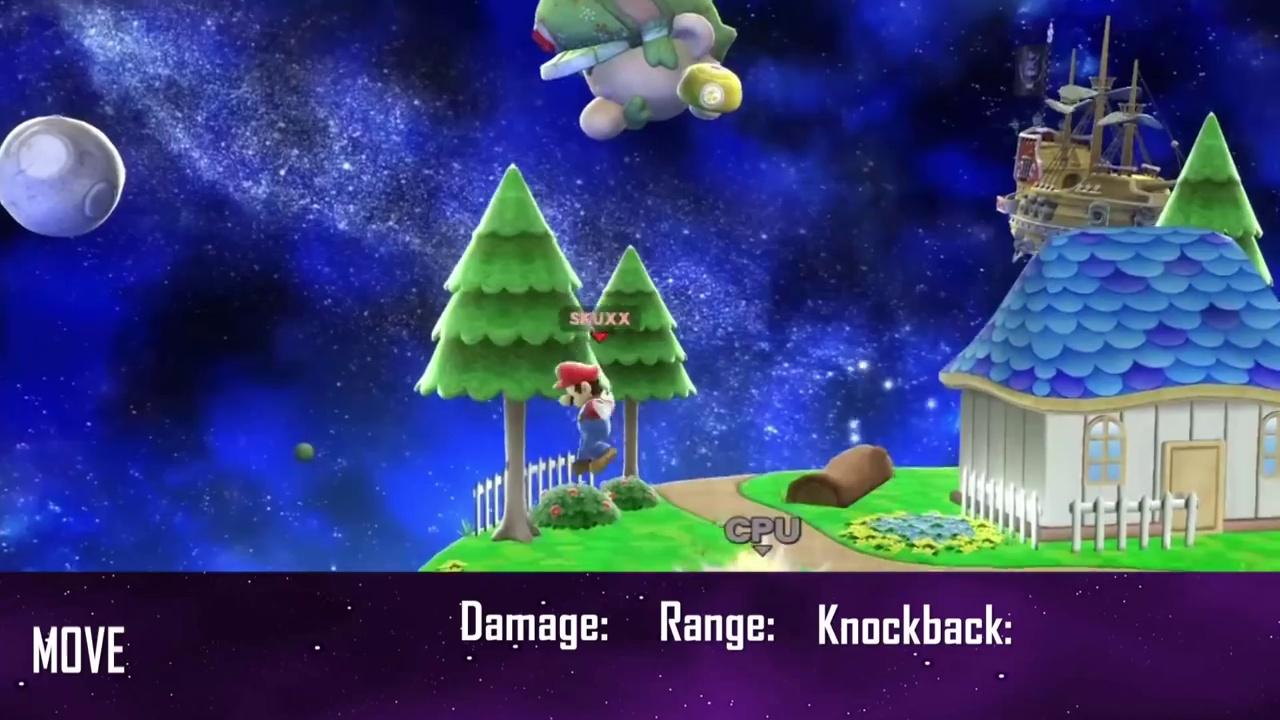Mario: (554, 361, 620, 476)
